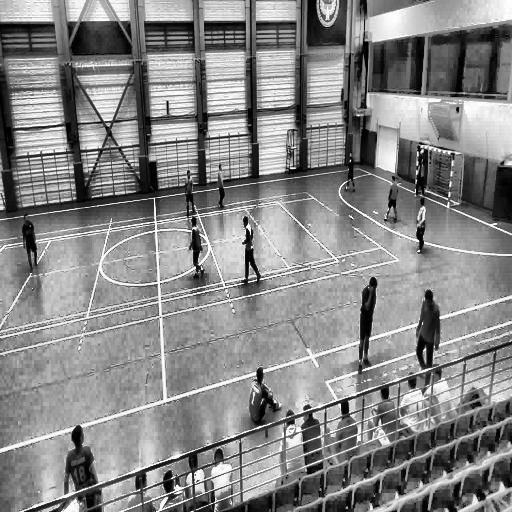player: (249, 367, 282, 437), (416, 290, 440, 374), (357, 276, 377, 370), (240, 215, 261, 284), (22, 215, 40, 272), (190, 215, 204, 279), (384, 174, 398, 224), (415, 198, 426, 253), (185, 169, 196, 216), (344, 152, 355, 192), (415, 159, 425, 200), (217, 163, 226, 208)
